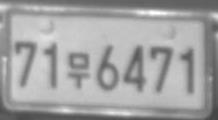1: (177, 47, 202, 94), (41, 42, 63, 88)
4: (123, 44, 147, 92)
6: (96, 45, 119, 90)
7: (148, 46, 175, 93), (13, 40, 38, 87)
무: (66, 52, 91, 89)
